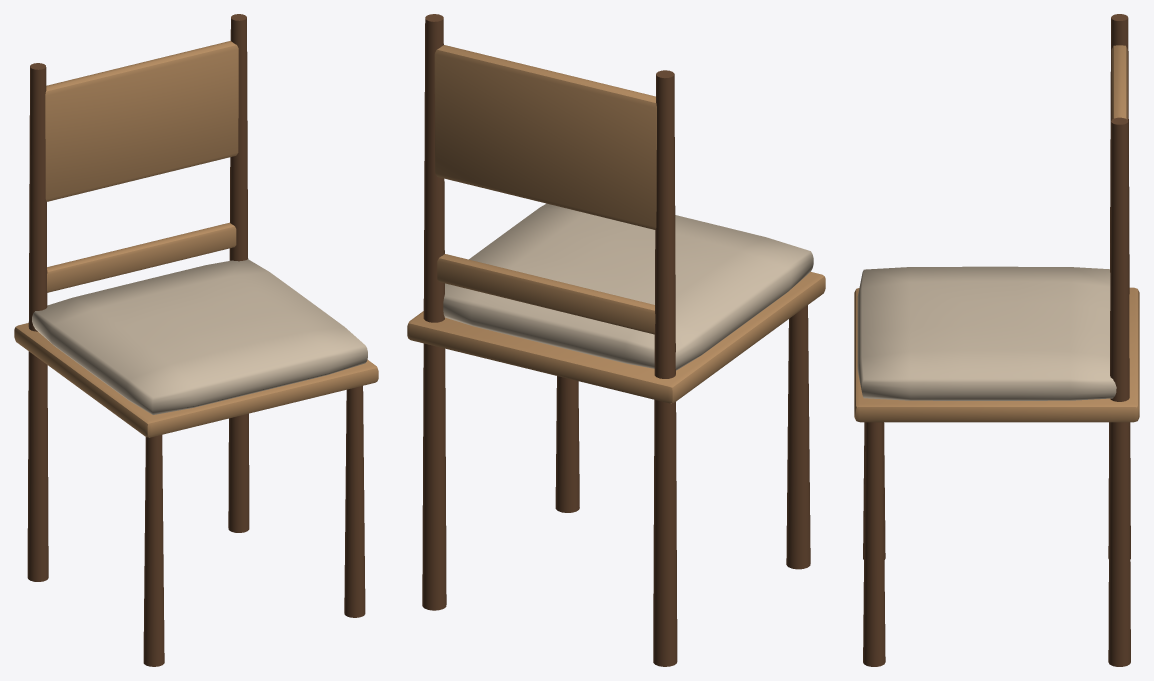
The model's file is chair.glb.
3 views of the same model, side by side, from view 1: azimuth 30°, elevation 25°; view 2: azimuth 150°, elevation 25°; view 3: azimuth 270°, elevation 25° (orthographic). The views are drawn at different scales.
Parts seen in each view (by area): view 1: soft, box.001, cyl.001, box, cyl.003, box.002, cyl, cyl.002; view 2: soft, box.001, cyl.001, box, cyl.003, box.002, cyl, cyl.002; view 3: soft, cyl.003, box, cyl.002, cyl.001, box.001, cyl.
Part boxes in pixels (x1,y1,x2,y2): soft: (32,259,367,414); box.001: (45,41,238,201); cyl.001: (27,63,48,581); box: (14,323,378,437); cyl.003: (228,14,249,532); box.002: (47,222,236,292); cyl: (143,435,164,666); cyl.002: (344,386,365,617); soft: (443,203,813,370); box.001: (434,45,656,229); cyl.001: (653,70,677,666); box: (407,272,825,403); cyl.003: (422,14,446,610); box.002: (437,254,655,334); cyl: (786,305,810,569); cyl.002: (555,376,579,512); soft: (857,266,1116,400); cyl.003: (1108,117,1130,666); box: (854,287,1139,422); cyl.002: (863,422,885,666); cyl.001: (1108,14,1130,559); box.001: (1111,45,1127,119); cyl: (863,422,885,559).
Bounding box in the file's own units: 43 × 90 × 43.
